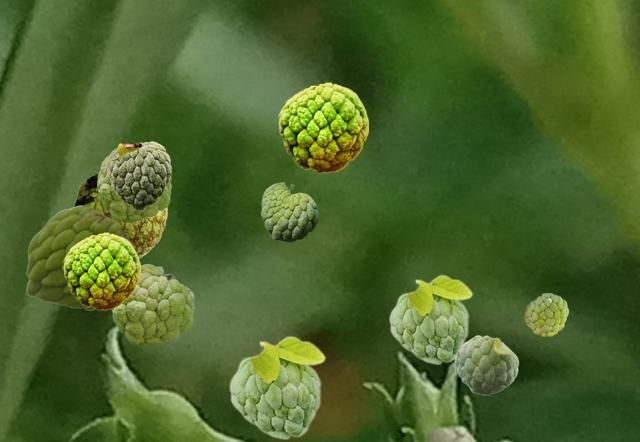atis: (26, 205, 129, 309), (228, 335, 325, 439), (73, 171, 166, 258), (278, 82, 367, 172), (388, 274, 472, 364), (111, 264, 193, 345), (63, 232, 139, 309), (97, 154, 170, 221), (106, 141, 170, 209), (454, 335, 518, 394), (261, 182, 317, 241), (524, 293, 567, 335)
